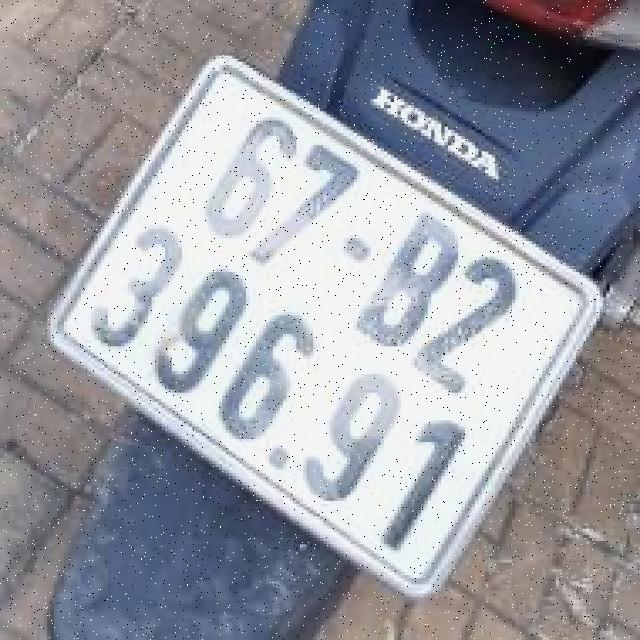1: (355, 402, 498, 571)
2: (399, 235, 557, 409)
3: (68, 209, 204, 366)
6: (195, 295, 341, 464), (183, 104, 317, 253)
7: (228, 133, 377, 289)
9: (282, 355, 430, 522), (133, 253, 266, 413)
B: (337, 196, 488, 366)
